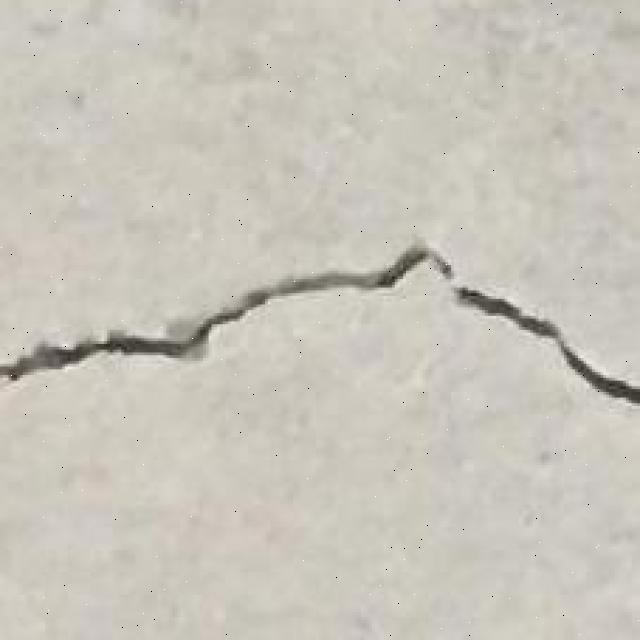crack: (1, 238, 638, 406)
